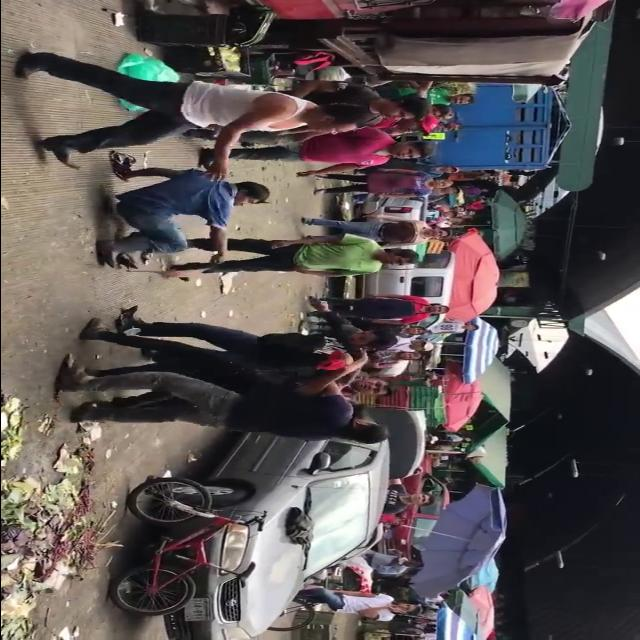NonViolence: (32, 69, 360, 166), (94, 163, 265, 272), (172, 238, 416, 282), (194, 133, 434, 177)
Violence: (78, 298, 392, 398)
